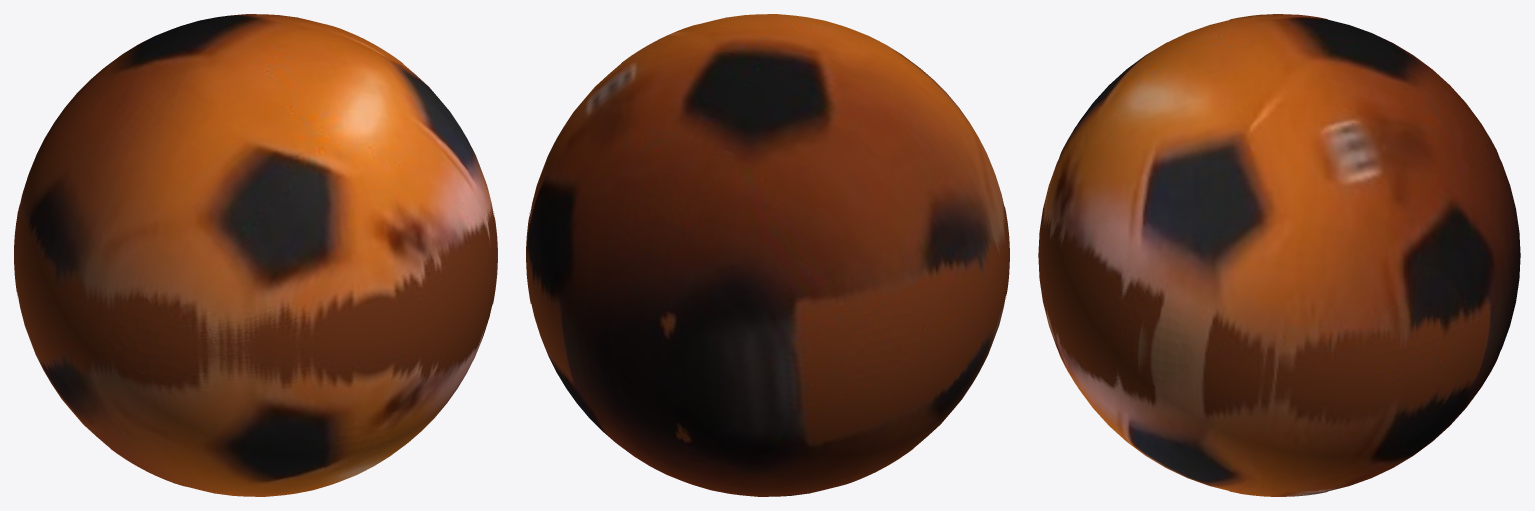
The model's file is cup-pyramid-textures.glb.
The picture shows the model from 3 angles, left to right: view 1: azimuth 30°, elevation 25°; view 2: azimuth 150°, elevation 25°; view 3: azimuth 270°, elevation 25°; orthographic projection.
Visible parts, largest first — view 1: ball_surface, panels; view 2: ball_surface, panels; view 3: ball_surface, panels.
Boxes of the visible parts, <box> form: ball_surface: <box>16,14,494,496</box>; panels: <box>14,23,497,486</box>; ball_surface: <box>529,14,1007,496</box>; panels: <box>526,23,1009,485</box>; ball_surface: <box>1038,15,1520,491</box>; panels: <box>1053,14,1505,496</box>.
Bounding box in the file's own units: 0.1695 × 0.1695 × 0.1695.
17 materials, 17 textured.
